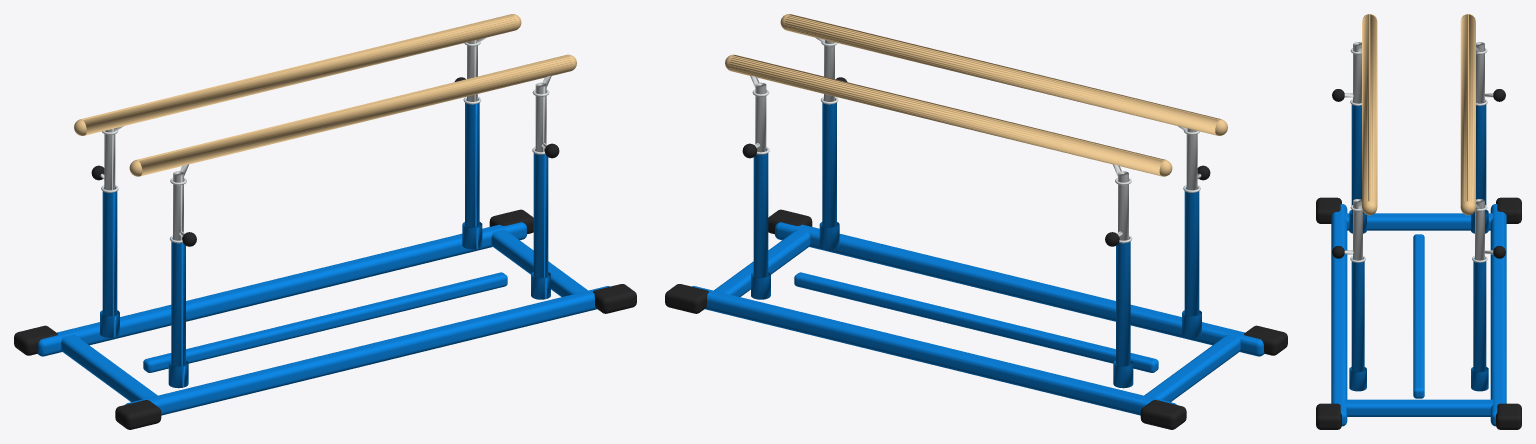
File: Barren_3D.glb
3 views of the same model, side by side, from view 1: azimuth 30°, elevation 25°; view 2: azimuth 150°, elevation 25°; view 3: azimuth 270°, elevation 25° (orthographic). The views are drawn at different scales.
Visible parts, largest first — view 1: Barren_3D__web_glossy_anodized_blue, Barren_3D__web_warm_laminated_wood, Barren_3D__web_black_rubber_knobs_and_feet, Barren_3D__web_brushed_chrome_telescoping_tubes; view 2: Barren_3D__web_glossy_anodized_blue, Barren_3D__web_warm_laminated_wood, Barren_3D__web_black_rubber_knobs_and_feet, Barren_3D__web_brushed_chrome_telescoping_tubes; view 3: Barren_3D__web_glossy_anodized_blue, Barren_3D__web_warm_laminated_wood, Barren_3D__web_black_rubber_knobs_and_feet, Barren_3D__web_brushed_chrome_telescoping_tubes.
Part boxes in pixels (x1,y1,x2,y2): Barren_3D__web_glossy_anodized_blue: [37, 99, 609, 415]; Barren_3D__web_warm_laminated_wood: [74, 14, 576, 176]; Barren_3D__web_black_rubber_knobs_and_feet: [14, 77, 636, 429]; Barren_3D__web_brushed_chrome_telescoping_tubes: [100, 37, 551, 243]; Barren_3D__web_glossy_anodized_blue: [692, 99, 1264, 415]; Barren_3D__web_warm_laminated_wood: [725, 14, 1227, 176]; Barren_3D__web_black_rubber_knobs_and_feet: [665, 77, 1287, 429]; Barren_3D__web_brushed_chrome_telescoping_tubes: [750, 37, 1201, 243]; Barren_3D__web_glossy_anodized_blue: [1331, 101, 1506, 426]; Barren_3D__web_warm_laminated_wood: [1362, 14, 1475, 215]; Barren_3D__web_black_rubber_knobs_and_feet: [1316, 89, 1521, 429]; Barren_3D__web_brushed_chrome_telescoping_tubes: [1344, 42, 1493, 262].
Bounding box in the file's own units: 3.61 × 1.63 × 1.42.
